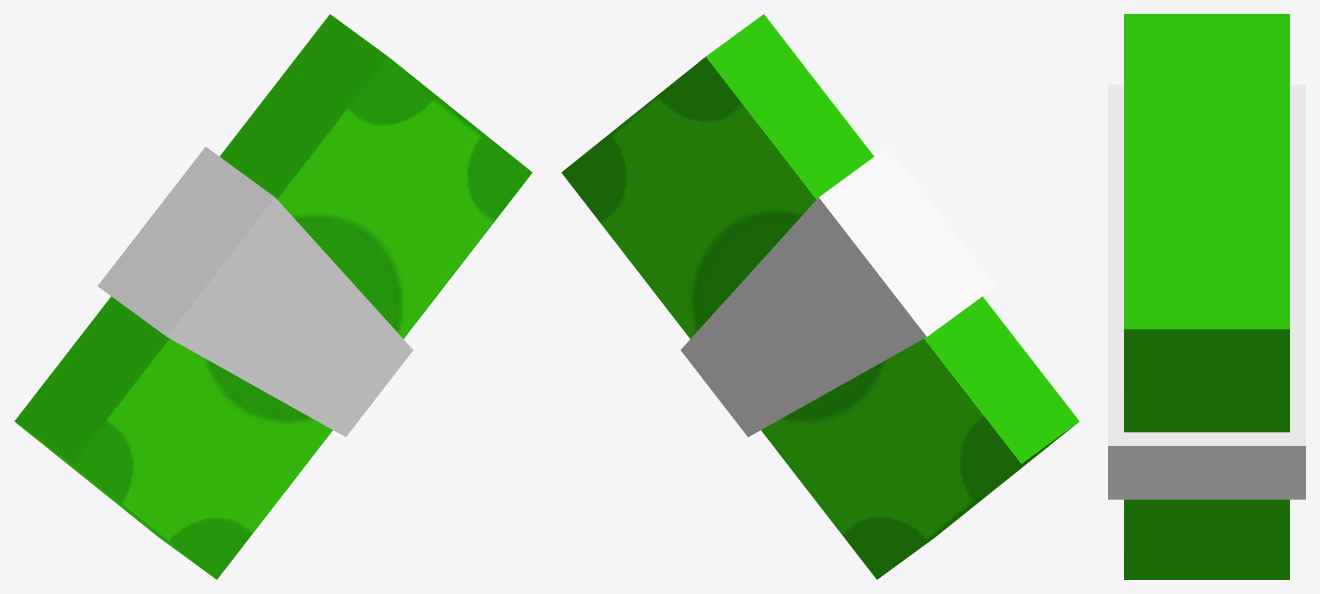
The model's file is Collectable_Coin (10).fbx.
3 views of the same model, side by side, from view 1: azimuth 30°, elevation 25°; view 2: azimuth 150°, elevation 25°; view 3: azimuth 270°, elevation 25° (orthographic). The views are drawn at different scales.
Visible parts, largest first — view 1: MoneyStack; view 2: MoneyStack; view 3: MoneyStack.
Part boxes in pixels (x1,y1,x2,y2): MoneyStack: [14, 14, 532, 579]; MoneyStack: [561, 14, 1079, 579]; MoneyStack: [1108, 14, 1305, 579].
Size of the model in its own units: 0.7298 by 0.7298 by 0.1909.
2 materials, 1 textured.
